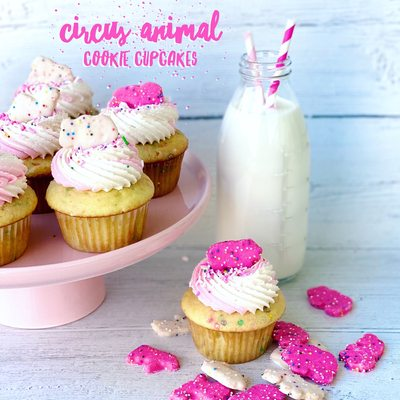curry: (0, 20, 397, 399)
sushi: (181, 238, 287, 365), (45, 143, 155, 253), (102, 81, 190, 198), (0, 150, 38, 267)
